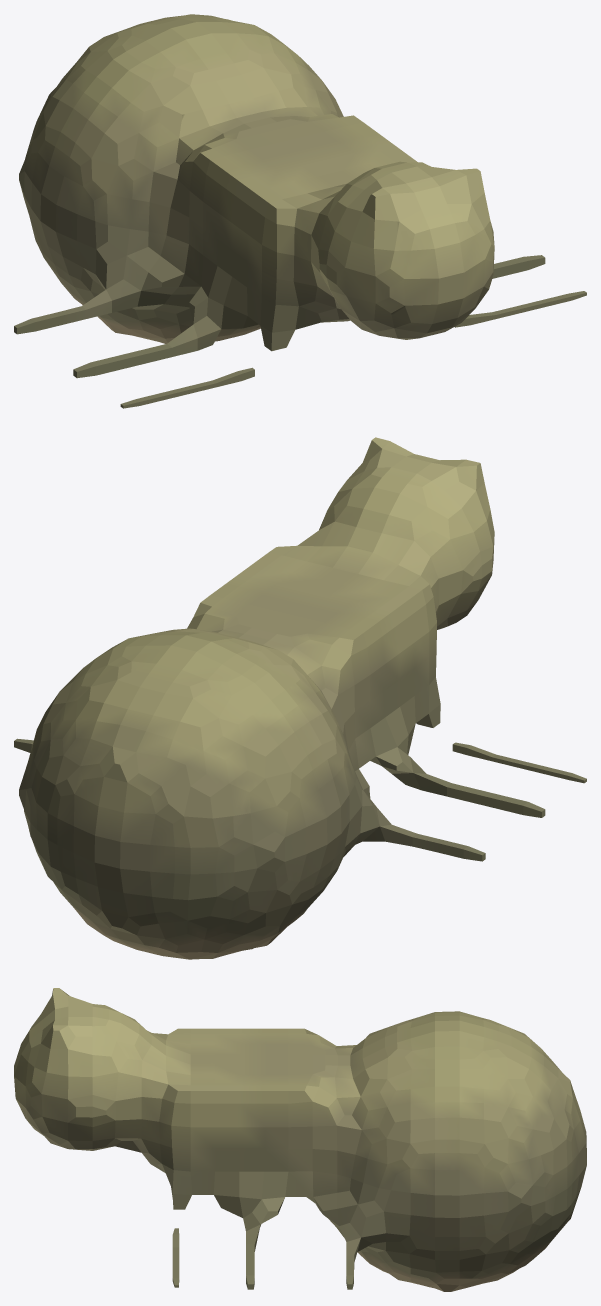
The model's file is killerBee.glb.
The picture shows the model from 3 angles, top to bottom: view 1: azimuth 30°, elevation 25°; view 2: azimuth 150°, elevation 25°; view 3: azimuth 270°, elevation 25°; orthographic projection. The views are drawn at different scales.
Parts seen in each view (by area): view 1: geometry_0; view 2: geometry_0; view 3: geometry_0.
Part boxes in pixels (x1,y1,x2,y2): geometry_0: [14, 14, 586, 408]; geometry_0: [14, 437, 586, 959]; geometry_0: [14, 988, 586, 1291].
Bounding box in the file's own units: 1.3 × 0.8487 × 1.66.
Materials: 1 (1 with a texture image).
